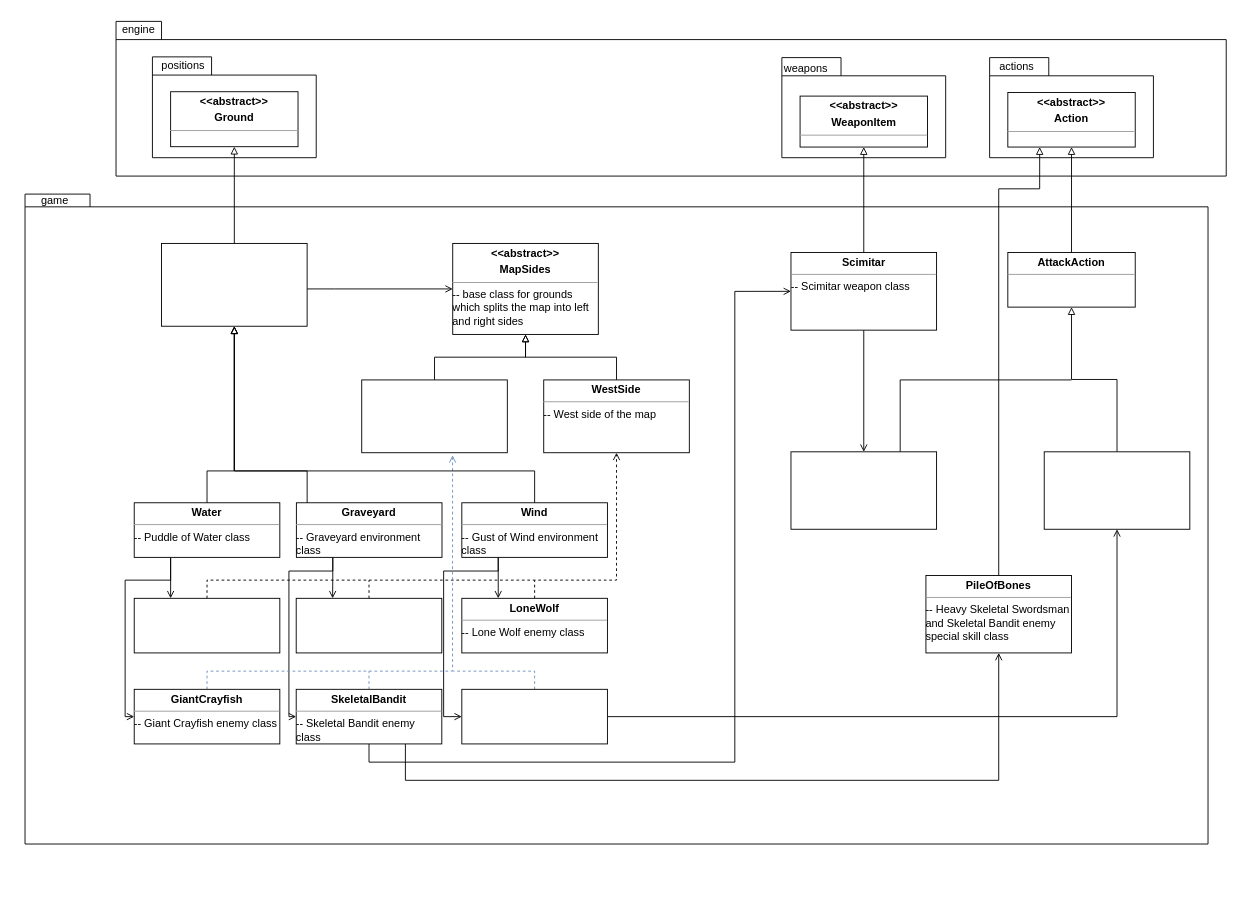
The diagram is 1243 pixels wide and 923 high, and some of its shapes have lost their labels. The shapes that lost their labels are listed below. From the top down, each one's centre as x and y in pixels, then its label:
the point at 234,284: <<abstract>> GroundSpawner -- base class for grounds which spawn enemies
the point at 434,416: EastSide -- East side of the map
the point at 863,490: ScimitarAttack -- Scimitar special attack class
the point at 1116,490: SlamAttack -- Giant Crab and Giant Dog enemy special attack class
the point at 206,625: GiantCrab -- Giant crab enemy class
the point at 368,625: HeavySkeletalSwordsman -- Heavy Skeletal Swordsman enemy class
the point at 534,716: GiantDog -- Giant God enemy class
